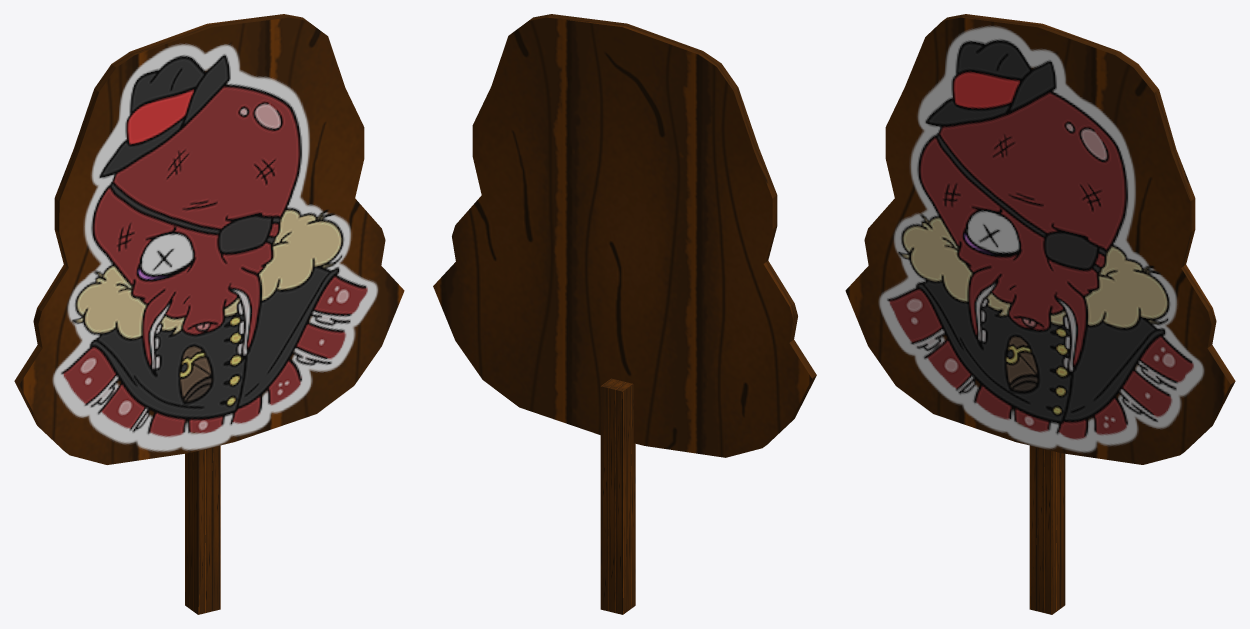
Rendered from OctoHead_Death.fbx.
3 views of the same model, side by side, from view 1: azimuth 30°, elevation 25°; view 2: azimuth 150°, elevation 25°; view 3: azimuth 330°, elevation 25° (orthographic).
Parts seen in each view (by area): view 1: pCube24; view 2: pCube24; view 3: pCube24.
Part boxes in pixels (box(x1,y1,x2,y2)): pCube24: box(14, 14, 404, 614); pCube24: box(433, 14, 816, 614); pCube24: box(845, 14, 1235, 614).
Bounding box in the file's own units: 47.71 × 69.44 × 3.38.
Materials: 2 (2 with a texture image).
